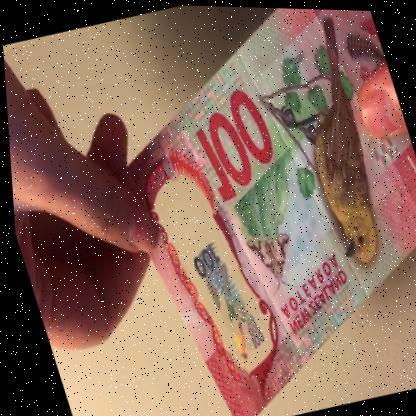100B: (179, 223, 273, 366)
